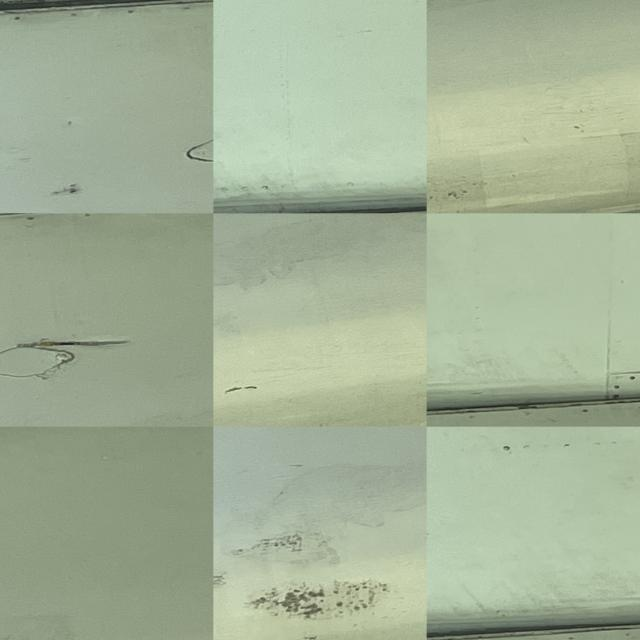crack: (12, 342, 150, 355)
